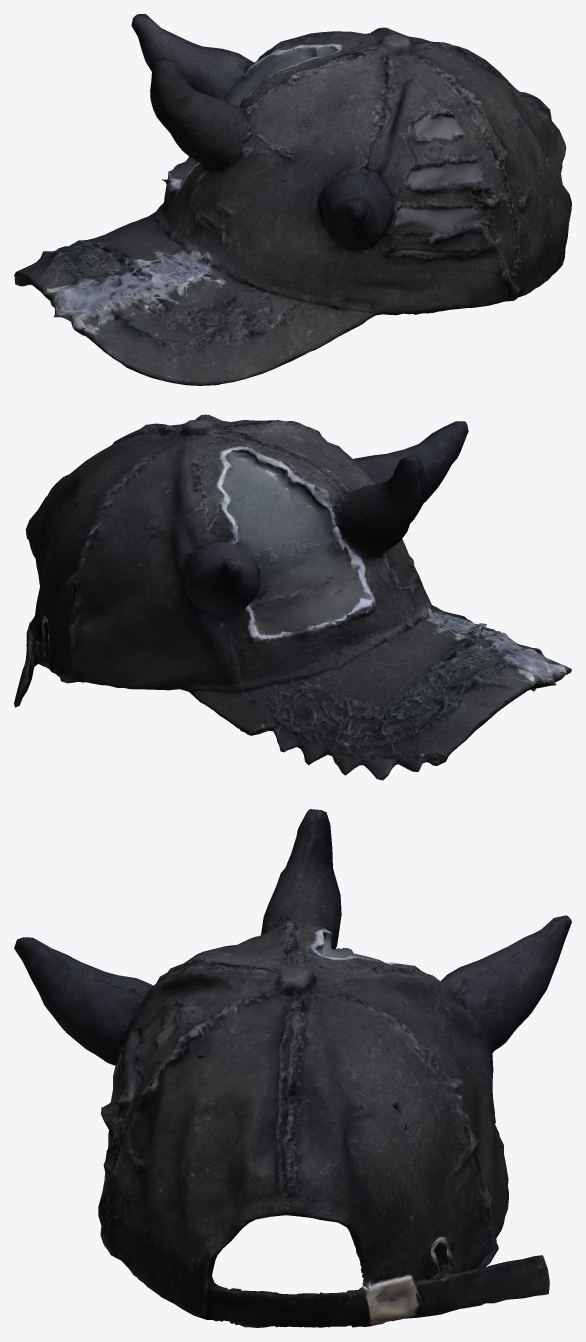
Rendered from Cap_2.gltf.
3 renders of one model, top to bottom at view 1: azimuth 30°, elevation 25°; view 2: azimuth 150°, elevation 25°; view 3: azimuth 270°, elevation 25°, orthographic. The views are drawn at different scales.
Parts seen in each view (by area): view 1: mesh.012; view 2: mesh.012; view 3: mesh.012.
Part boxes in pixels (left/top/right/bottom): mesh.012: left=14, top=14, right=571, bottom=385; mesh.012: left=14, top=414, right=571, bottom=780; mesh.012: left=14, top=809, right=571, bottom=1327.
Bounding box in the file's own units: 0.3143 × 0.1561 × 0.2492.
Materials: 1 (1 with a texture image).
